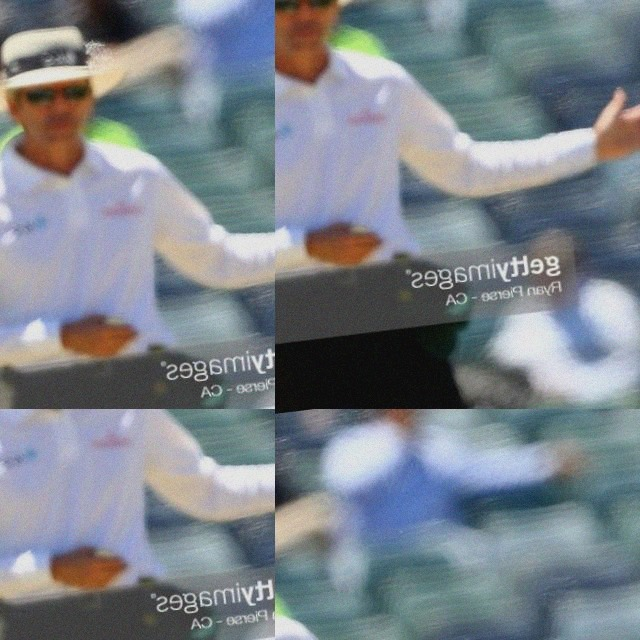No_Action: (275, 0, 378, 409)
No_Ball: (275, 437, 628, 640), (123, 0, 275, 409), (78, 409, 275, 640)
